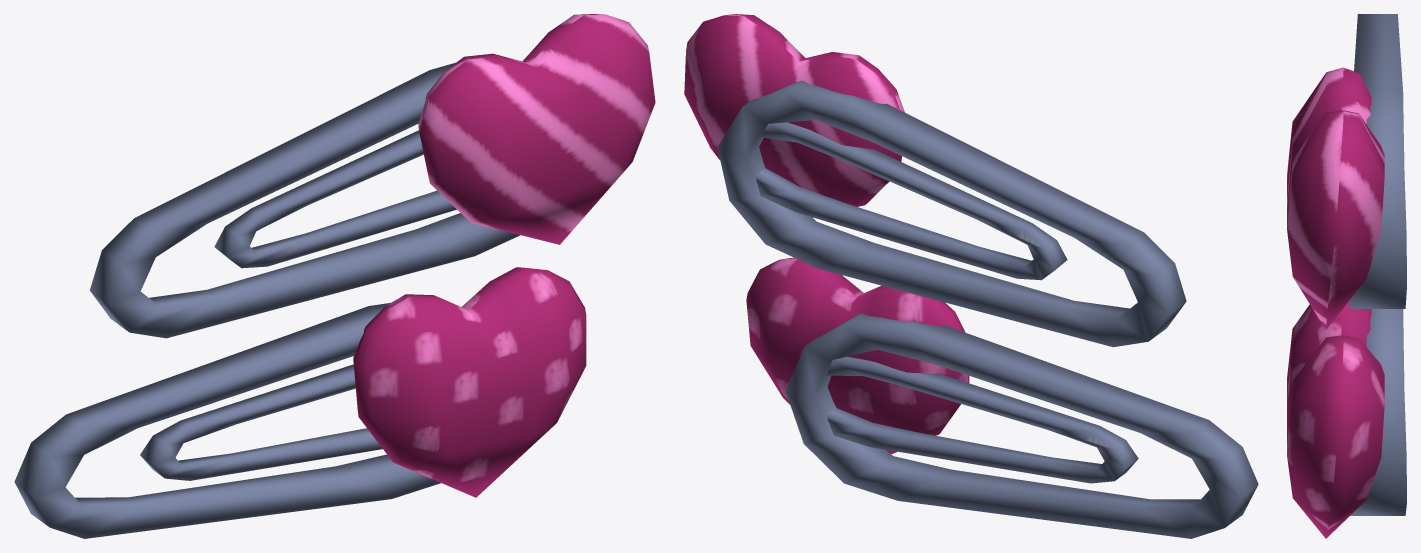
Rendered from HairClipPowerUp.fbx.
3 renders of one model, left to right at view 1: azimuth 30°, elevation 25°; view 2: azimuth 150°, elevation 25°; view 3: azimuth 270°, elevation 25°, orthographic. The views are drawn at different scales.
Parts seen in each view (by area): view 1: Presilhas_PowerUp; view 2: Presilhas_PowerUp; view 3: Presilhas_PowerUp.
Part boxes in pixels (bbox=[...]): Presilhas_PowerUp: bbox=[14, 14, 655, 538]; Presilhas_PowerUp: bbox=[684, 14, 1258, 538]; Presilhas_PowerUp: bbox=[1287, 14, 1406, 538].
Bounding box in the file's own units: 161 × 113 × 25.09.
Materials: 1 (1 with a texture image).
